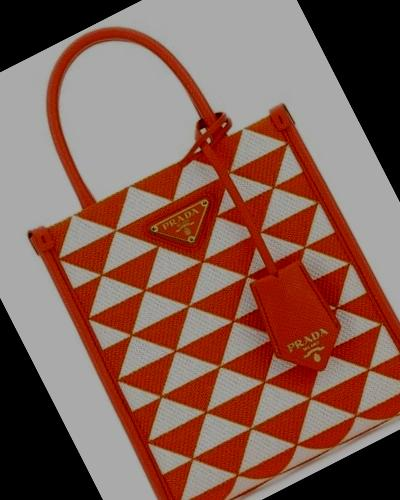PRADA: (278, 320, 350, 383), (148, 197, 222, 257)
